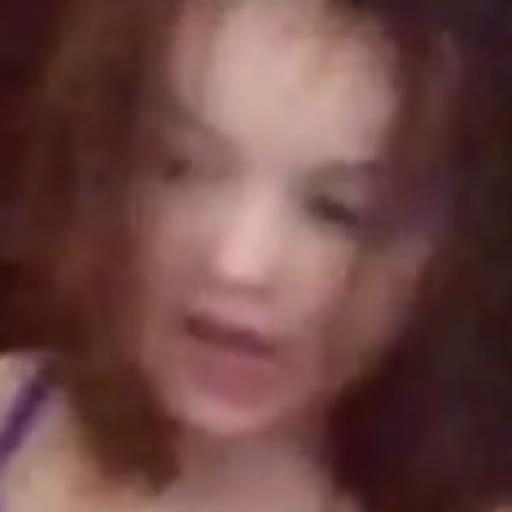Autism: (55, 14, 512, 490)
